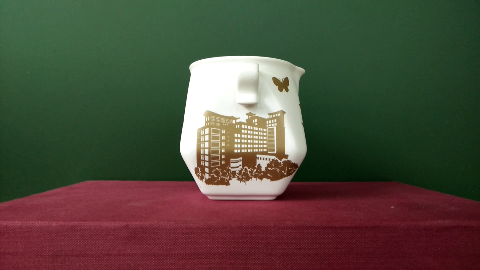butterfly: (263, 64, 303, 102)
lenwen: (204, 122, 282, 181)
